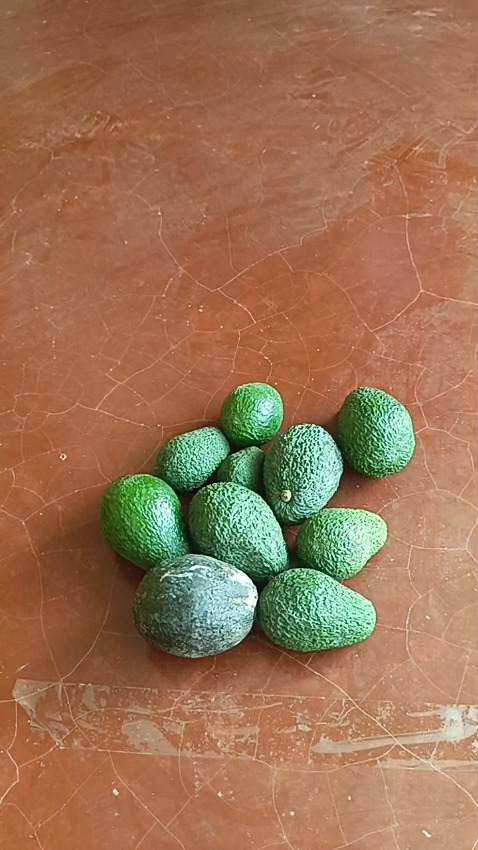Primera: (133, 557, 260, 656), (187, 482, 290, 583), (256, 567, 376, 651), (97, 473, 186, 572), (262, 424, 344, 526), (334, 389, 415, 479)
Segunda: (294, 508, 388, 581), (155, 428, 230, 495), (219, 382, 285, 447)
Tercera: (218, 447, 267, 496)
